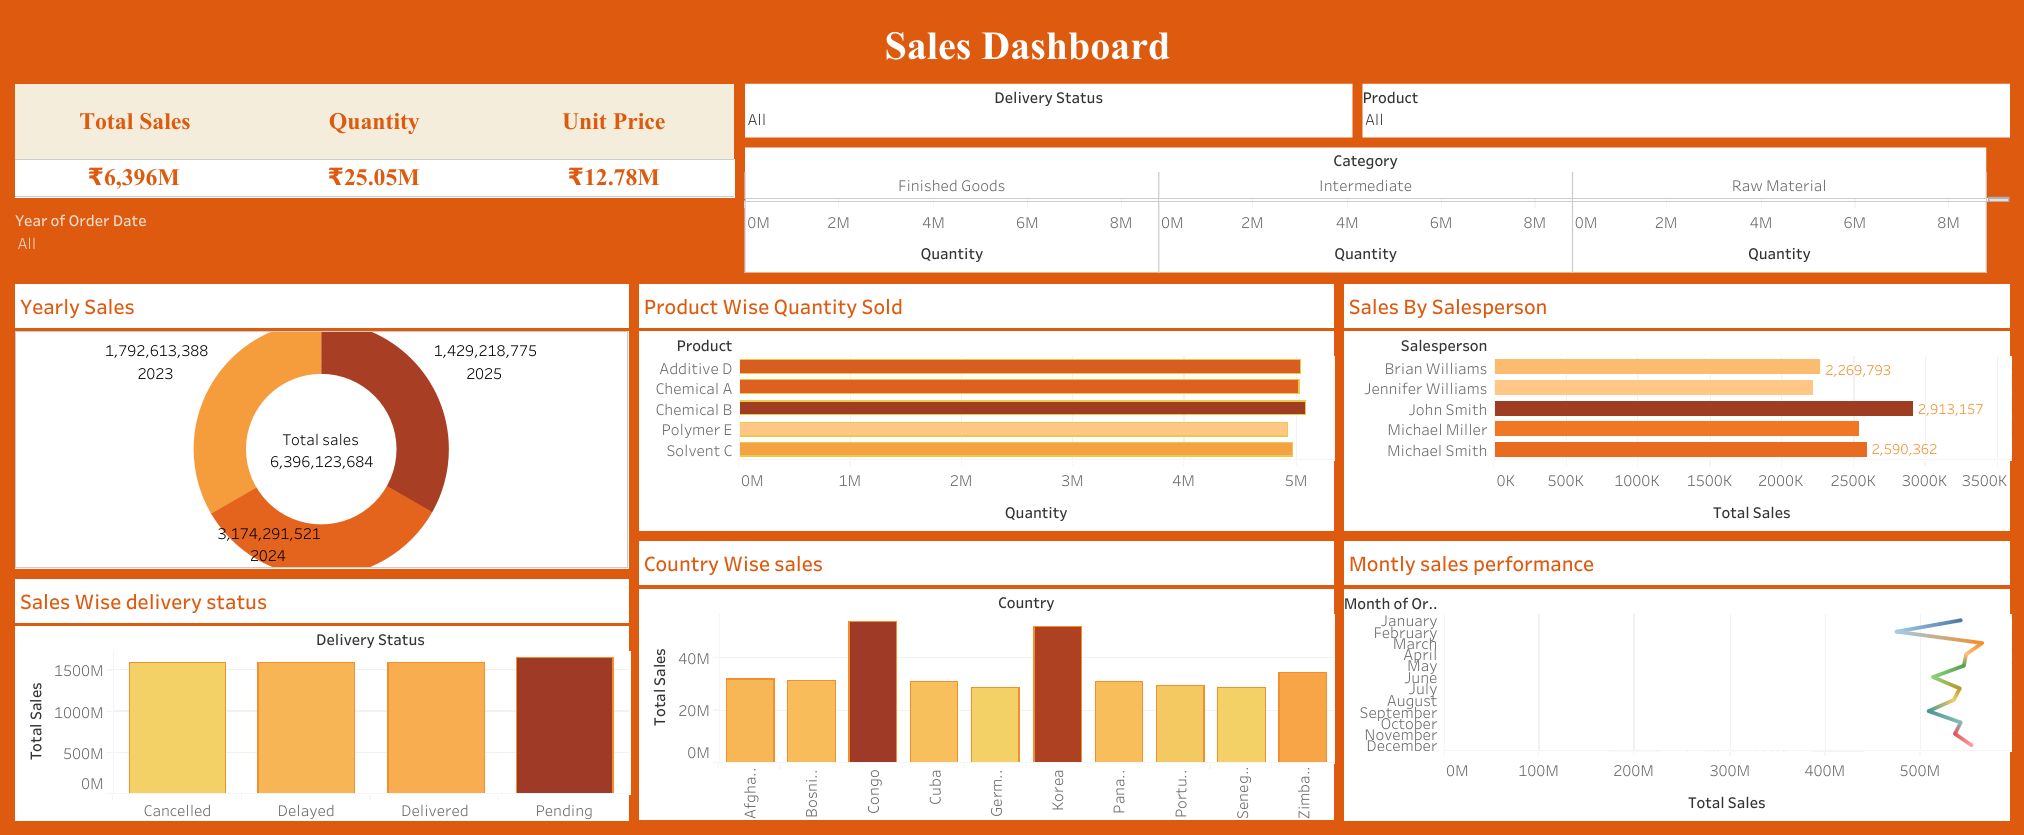

Layout of this report page (visuals, bound fields, positions):
{"tool":"tableau","page":{"name":"Sales Dashboard","canvas":[1000,1000],"units":"permille","ordinal":0},"visuals":[{"type":"title","box":[4.9,9.3,990.1,64]},{"type":"worksheet","title":"KPI","mark":"Automatic","box":[4.9,73.2,360.5,151.2]},{"type":"filter","title":"Sales Wise delivery status","param":"[federated.031u84o0i3w51j173mokf1bk9vh6].[none:Delivery_Status:nk]","box":[365.4,73.2,304.9,75.6]},{"type":"filter","title":"Product Wise Quantity Sold","param":"[federated.031u84o0i3w51j173mokf1bk9vh6].[none:Product:nk]","box":[670.4,73.2,324.7,77.9]},{"type":"worksheet","title":"Category Wise Quantity Sold","mark":"Automatic","cols":["Category","Quantity"],"box":[365.4,151.2,629.6,167.4]},{"type":"filter","title":"Yearly Sales","param":"[federated.031u84o0i3w51j173mokf1bk9vh6].[yr:Order_Date:ok]","box":[4.9,224.4,360.5,94.2]},{"type":"worksheet","title":"Yearly Sales","mark":"Pie","cols":["Calculation_2009449878059798531","Calculation_2009449878059798531"],"box":[4.9,318.6,307.8,361.6]},{"type":"worksheet","title":"Product Wise Quantity Sold","mark":"Bar","rows":["Product"],"cols":["Quantity"],"box":[312.7,318.6,348.4,316.5]},{"type":"worksheet","title":"Sales By Salesperson","mark":"Automatic","rows":["Salesperson"],"cols":["Total Sales"],"box":[661.1,318.6,334,316.3]},{"type":"worksheet","title":"Montly sales performance","mark":"Automatic","rows":["Order_Date"],"cols":["Total Sales"],"box":[661.1,634.9,334,355.8]},{"type":"worksheet","title":"Country Wise sales","mark":"Automatic","rows":["Total Sales"],"cols":["Country"],"box":[312.7,635.1,348.4,355.6]},{"type":"worksheet","title":"Sales Wise delivery status","mark":"Automatic","rows":["Total Sales"],"cols":["Delivery_Status"],"box":[4.9,680.2,307.8,310.5]}]}

Visuals, with their boxes on the dashboard's canvas, which has no fixed pixel size, in thousandths of its width and height (x1, y1, x2, y2). These are canvas units, not pixel positions in the 2024x835 screenshot, which may show the page scaled, cropped or inside an application window:
title: [5,9,995,73]
"KPI" worksheet: [5,73,365,224]
"Sales Wise delivery status" filter: [365,73,670,149]
"Product Wise Quantity Sold" filter: [670,73,995,151]
"Category Wise Quantity Sold" worksheet: [365,151,995,319]
"Yearly Sales" filter: [5,224,365,319]
"Yearly Sales" worksheet (Pie marks): [5,319,313,680]
"Product Wise Quantity Sold" worksheet (Bar marks): [313,319,661,635]
"Sales By Salesperson" worksheet: [661,319,995,635]
"Montly sales performance" worksheet: [661,635,995,991]
"Country Wise sales" worksheet: [313,635,661,991]
"Sales Wise delivery status" worksheet: [5,680,313,991]
